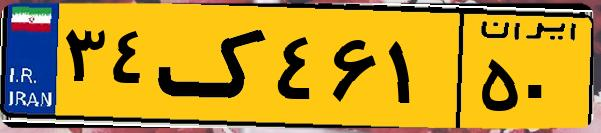0: (525, 38, 570, 115)
1: (385, 28, 445, 110)
3: (57, 26, 110, 100)
4: (270, 28, 330, 110), (110, 28, 158, 98)
5: (475, 38, 525, 113)
6: (330, 28, 385, 110)
ک: (158, 12, 270, 120)
